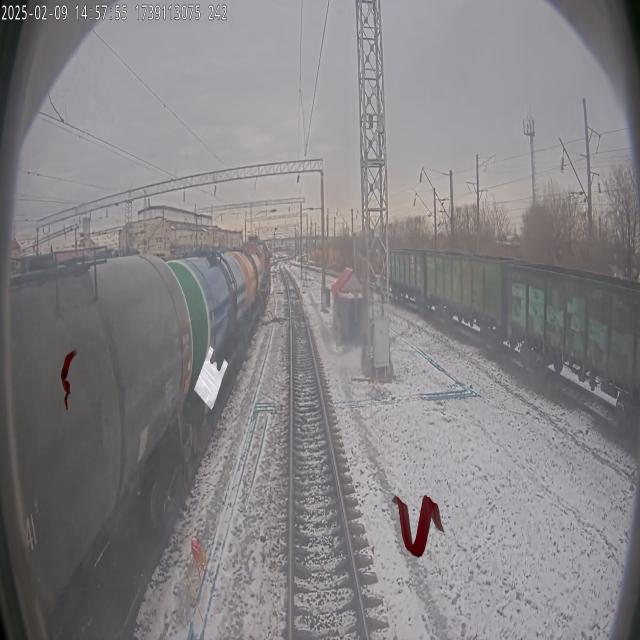floating object: (392, 493, 445, 558), (61, 346, 78, 410)
plastic bag: (194, 346, 228, 410)
